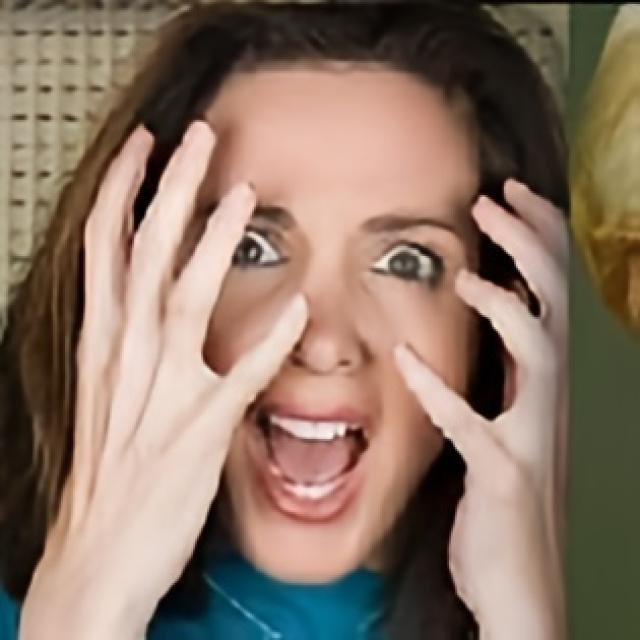fear: (185, 69, 479, 585)
